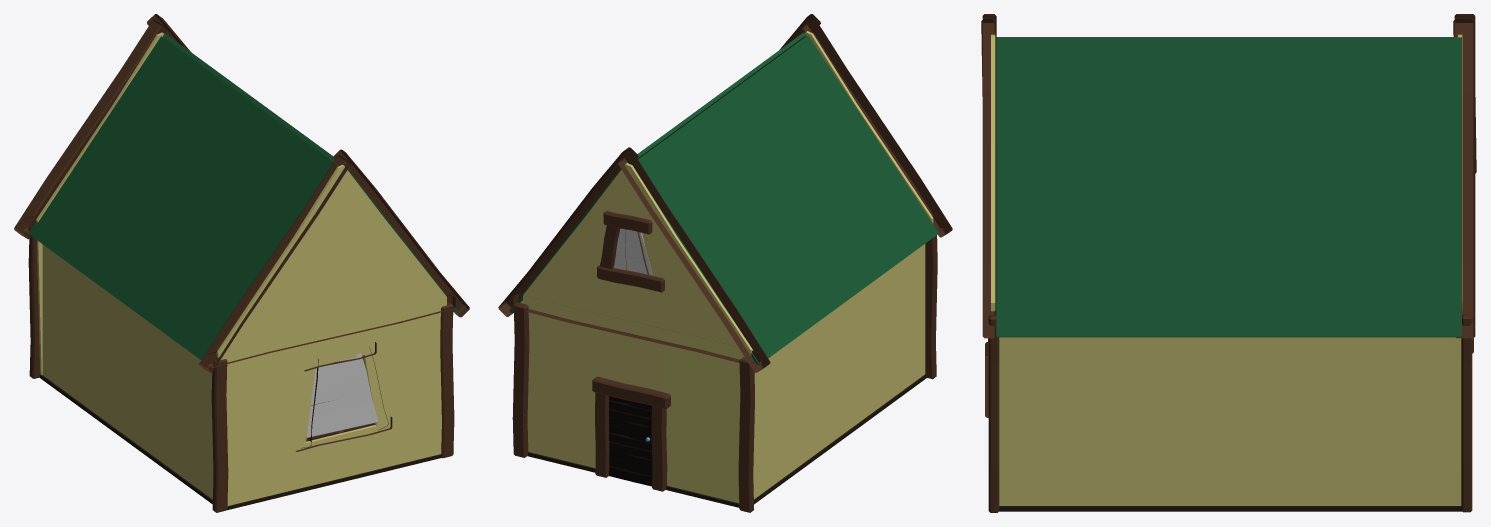
File: house1.obj
The picture shows the model from 3 angles, left to right: view 1: azimuth 30°, elevation 25°; view 2: azimuth 150°, elevation 25°; view 3: azimuth 270°, elevation 25°; orthographic projection. The views are drawn at different scales.
Parts seen in each view (by area): view 1: Roof.R_Plane.004, Plane.003, Plane.001, glass2_Cube.035, Cube.004, Cube.009, Cube.005, Cube.008, Cube.006, Plane.006, Plane, Cube (+2 smaller); view 2: Roof.R_Plane.004, Plane, Plane.001, Cube.004, Cylinder, Cube.009, Cube.001, Cube, Cube.003, Plane.006, Cube.005, Roof.L_Plane.005 (+9 smaller); view 3: Roof.L_Plane.005, Plane.002, Cube.003, Cube.008, Plane.006, Cube.001, Cube.006, Plane.003.
Boxes of the visible parts, x1,y1,x2,y2 form: Roof.R_Plane.004: (28,36,333,360); Plane.003: (216,164,446,506); Plane.001: (42,244,213,499); glass2_Cube.035: (306,354,377,437); Cube.004: (14,20,168,239); Cube.009: (199,155,350,372); Cube.005: (211,359,228,512); Cube.008: (332,149,469,317); Cube.006: (440,303,454,458); Plane.006: (39,374,442,511); Plane: (36,32,164,375); Cube: (28,225,40,378); Roof.R_Plane.004: (638,35,938,364); Plane: (523,163,752,503); Plane.001: (753,244,925,499); Cube.004: (618,152,770,372); Cylinder: (609,396,652,485); Cube.009: (803,19,952,237); Cube.001: (512,302,529,457); Cube: (738,357,754,512); Cube.003: (498,147,638,316); Plane.006: (527,374,926,507); Cube.005: (925,226,937,379); Roof.L_Plane.005: (509,32,806,313); Roof.L_Plane.005: (996,37,1461,337); Plane.002: (999,337,1461,505); Cube.003: (1454,14,1475,338); Cube.008: (982,14,996,338); Plane.006: (999,506,1461,511); Cube.001: (1461,314,1472,512); Cube.006: (988,314,999,512); Plane.003: (991,34,995,311).
Size of the model in its own units: 15.9 by 18.94 by 19.79.
